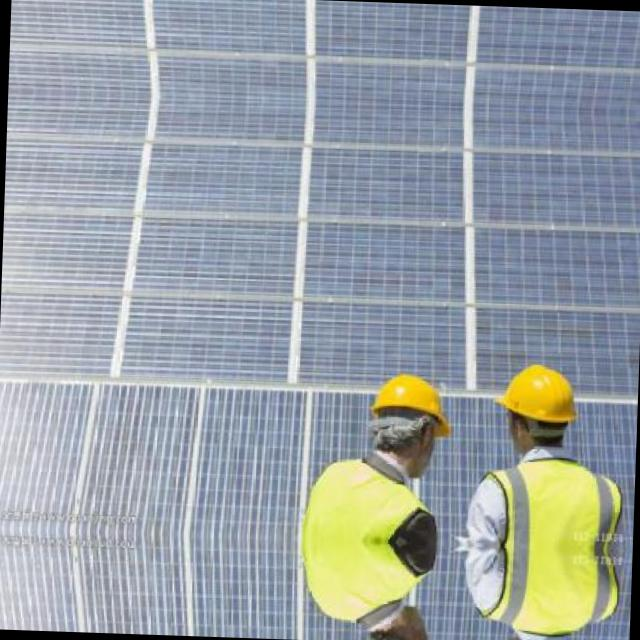helmet: (360, 359, 456, 468), (493, 352, 587, 454), (354, 612, 447, 640)
